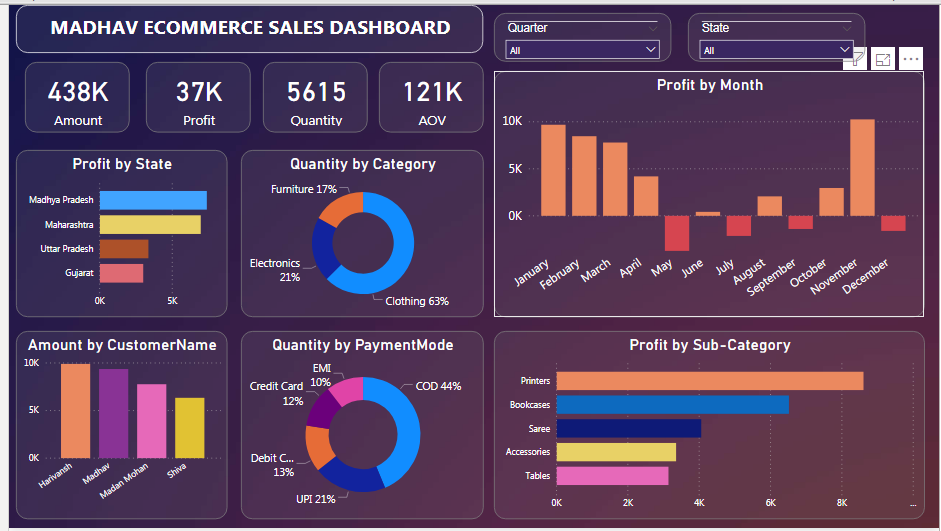

What the dashboard file says about the page in this screenshot:
{"tool":"powerbi","page":{"name":"Page 1","canvas":[1280,720],"ordinal":0},"visuals":[{"type":"textbox","box":[10.1,0,643.4,65.5],"z":0},{"type":"clusteredColumnChart","fields":{"Category":["Orders (1).Order Date.Variation.Date Hierarchy.Month"],"Y":["Details.Profit"]},"box":[666.9,90.7,593,339.3],"z":1},{"type":"barChart","fields":{"Category":["Details.Sub-Category"],"Y":["Details.Profit"]},"box":[666.9,448.5,593,258.7],"z":2},{"type":"donutChart","fields":{"Category":["Details.Category"],"Y":["Details.Quantity"]},"box":[319.2,199.9,334.3,230.1],"z":3},{"type":"donutChart","fields":{"Y":["Details.Quantity"],"Category":["Details.PaymentMode"]},"box":[319.2,448.5,334.3,258.7],"z":4},{"type":"card","fields":{"Values":["Details.Amount"]},"box":[21.8,79,144.5,97.4],"z":5},{"type":"card","fields":{"Values":["Details.Profit"]},"box":[188.1,79,144.5,97.4],"z":6},{"type":"card","fields":{"Values":["Details.Quantity"]},"box":[349.4,79,144.5,97.4],"z":7},{"type":"card","fields":{"Values":["Details.AOV"]},"box":[509,79,144.5,97.4],"z":8},{"type":"barChart","fields":{"Y":["Details.Profit"],"Category":["Orders (1).State"]},"box":[10.1,199.9,290.6,230.1],"z":9},{"type":"columnChart","fields":{"Category":["Orders (1).CustomerName"],"Y":["Details.Amount"]},"box":[10,449,291,259],"z":10},{"type":"slicer","fields":{"Values":["Orders (1).Order Date.Variation.Date Hierarchy.Quarter"]},"box":[667.5,11,243.6,67.4],"z":11},{"type":"slicer","fields":{"Values":["Orders (1).State"]},"box":[934.5,11,243.6,67.4],"z":12}]}

Visuals, with their boxes in screenshot pixels (x1, y1, x2, y2), scaled from the page's 1280x720 canvas onto the 941x531 screenshot:
textbox: 7 0 480 48
clusteredColumnChart - Orders (1).Order Date.Variation.Date Hierarchy.Month x Details.Profit: 490 67 926 317
barChart - Details.Sub-Category x Details.Profit: 490 331 926 522
donutChart - Details.Category x Details.Quantity: 235 147 480 317
donutChart - Details.Quantity x Details.PaymentMode: 235 331 480 522
card - Details.Amount: 16 58 122 130
card - Details.Profit: 138 58 245 130
card - Details.Quantity: 257 58 363 130
card - Details.AOV: 374 58 480 130
barChart - Details.Profit x Orders (1).State: 7 147 221 317
columnChart - Orders (1).CustomerName x Details.Amount: 7 331 221 522
slicer - Orders (1).Order Date.Variation.Date Hierarchy.Quarter: 491 8 670 58
slicer - Orders (1).State: 687 8 866 58
